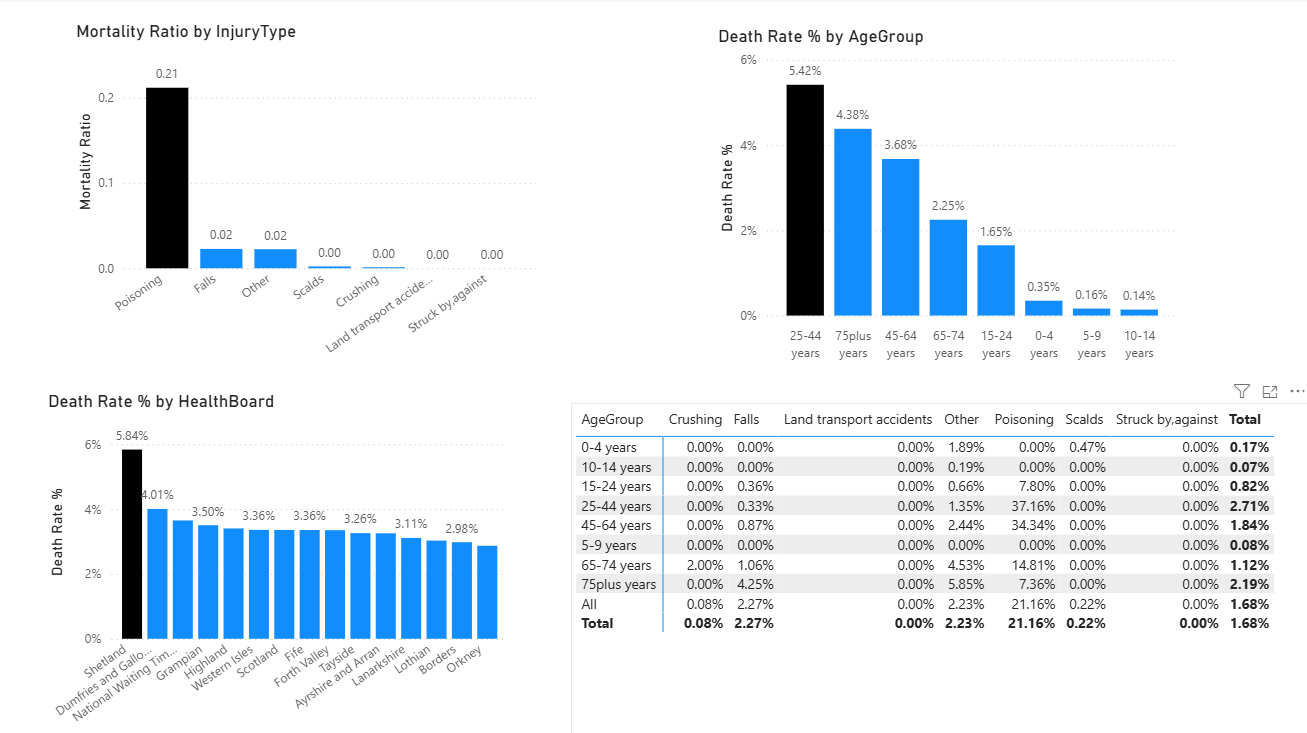

What the dashboard file says about the page in this screenshot:
{"tool":"powerbi","page":{"name":"Mortality Risk Analysis","canvas":[1280,720],"ordinal":2},"visuals":[{"type":"columnChart","fields":{"Y":["Admissions_2015.Death Rate"],"Category":["DimInjuryType_New.InjuryType"]},"box":[73.9,22.4,457.1,337.5],"z":0},{"type":"columnChart","fields":{"Y":["Admissions_2015.Death Rate %"],"Category":["DimAgeGroup_New.AgeGroup"]},"box":[698.4,27.2,457.1,332.6],"z":1},{"type":"columnChart","fields":{"Y":["Admissions_2015.Death Rate %"],"Category":["DimHBR.HealthBoard"]},"box":[47,382,457,338],"z":2},{"type":"pivotTable","fields":{"Rows":["DimAgeGroup_New.AgeGroup"],"Columns":["DimInjuryType_New.InjuryType"],"Values":["Admissions_2015.Death Rate %"]},"box":[560.2,393.9,719.8,325.8],"z":3}]}

Visuals, with their boxes in screenshot pixels (x1, y1, x2, y2), scaled from the page's 1280x720 canvas onto the 1307x733 screenshot:
columnChart - Admissions_2015.Death Rate x DimInjuryType_New.InjuryType: select_region(75, 23, 542, 366)
columnChart - Admissions_2015.Death Rate % x DimAgeGroup_New.AgeGroup: select_region(713, 28, 1180, 366)
columnChart - Admissions_2015.Death Rate % x DimHBR.HealthBoard: select_region(48, 389, 515, 732)
pivotTable - DimAgeGroup_New.AgeGroup x DimInjuryType_New.InjuryType: select_region(572, 401, 1306, 732)
